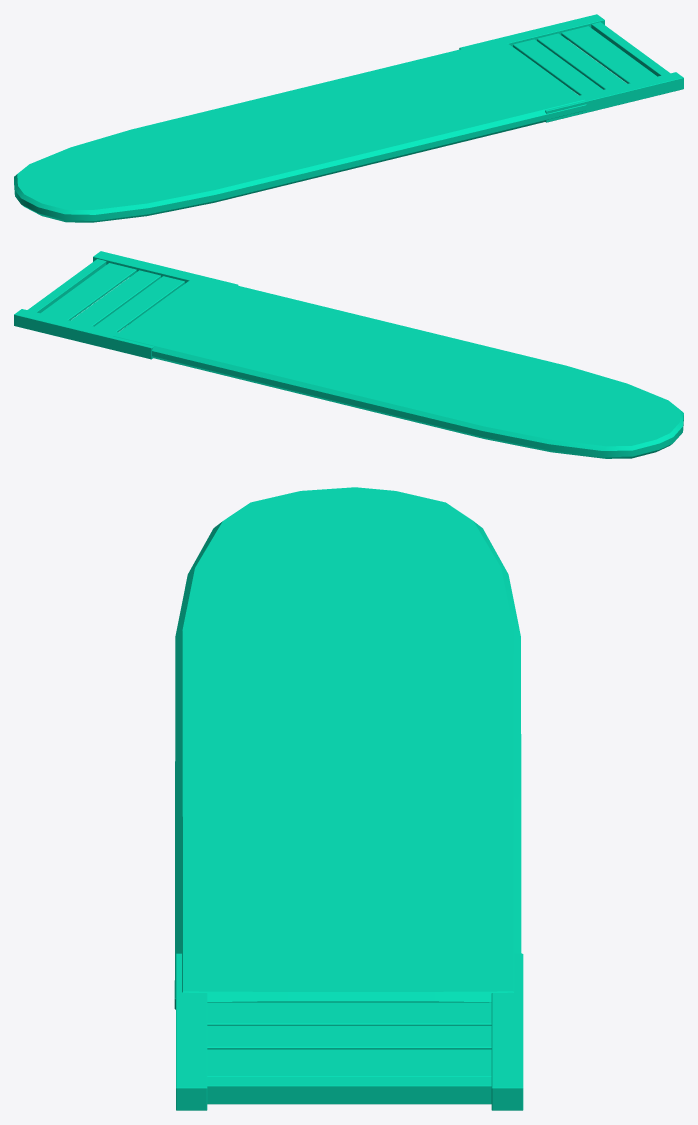
File: Ironing_Board.fbx
3 views of the same model, one above another, from view 1: azimuth 30°, elevation 25°; view 2: azimuth 150°, elevation 25°; view 3: azimuth 270°, elevation 25° (orthographic). The views are drawn at different scales.
Parts seen in each view (by area): view 1: Ironing_Board; view 2: Ironing_Board; view 3: Ironing_Board.
Part boxes in pixels (x1,y1,x2,y2): Ironing_Board: [14, 14, 683, 222]; Ironing_Board: [14, 251, 683, 458]; Ironing_Board: [174, 487, 523, 1110].
Size of the model in its own units: 826 by 16.12 by 202.
